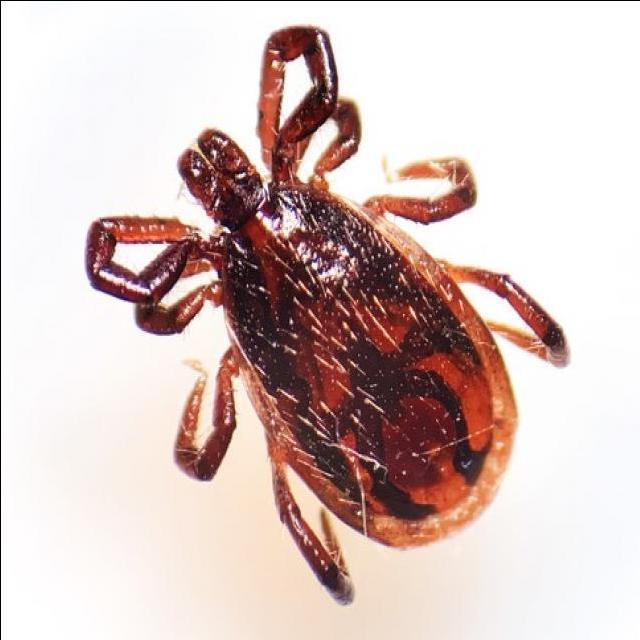Ixodes Ricinus-M: (82, 22, 570, 603)
